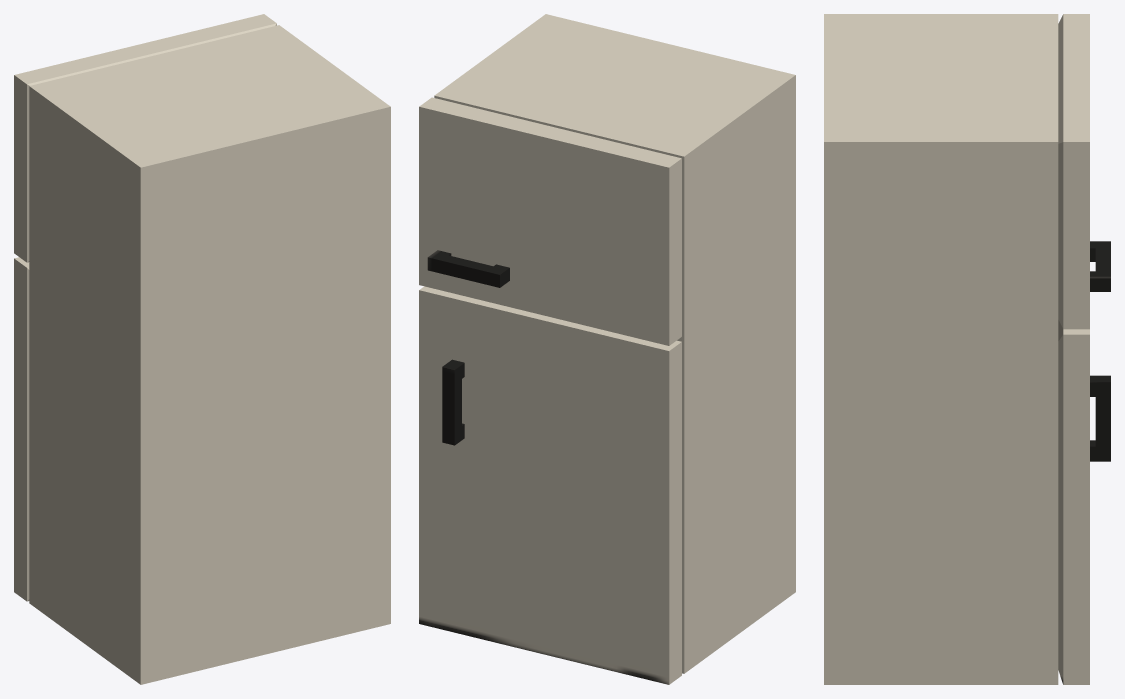
The model's file is Fridge.fbx.
3 views of the same model, side by side, from view 1: azimuth 30°, elevation 25°; view 2: azimuth 150°, elevation 25°; view 3: azimuth 270°, elevation 25° (orthographic). The views are drawn at different scales.
Visible parts, largest first — view 1: Fridge; view 2: Fridge; view 3: Fridge.
Boxes of the visible parts, x1,y1,x2,y2 form: Fridge: (14, 14, 390, 684); Fridge: (419, 14, 795, 684); Fridge: (824, 14, 1110, 684).
Bounding box in the file's own units: 2.83 × 5.6 × 2.68.
